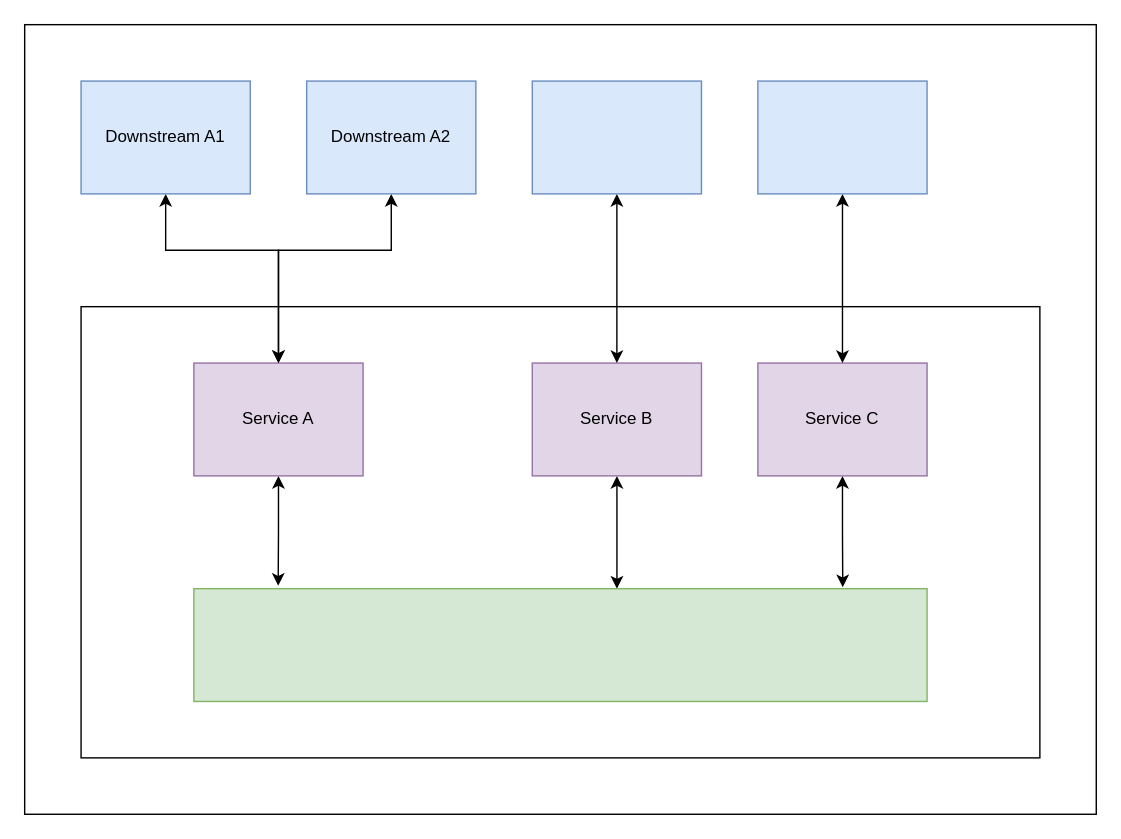
This 1121x839 diagram has some shape labels left out. The shapes that lost their labels are listed below. From the top down, each one's box as (x1, y1, x2, y2) in pixels, then its label:
(531, 80, 701, 194): Downstream B
(756, 80, 927, 194): Downstream C
(192, 587, 927, 701): Cache
